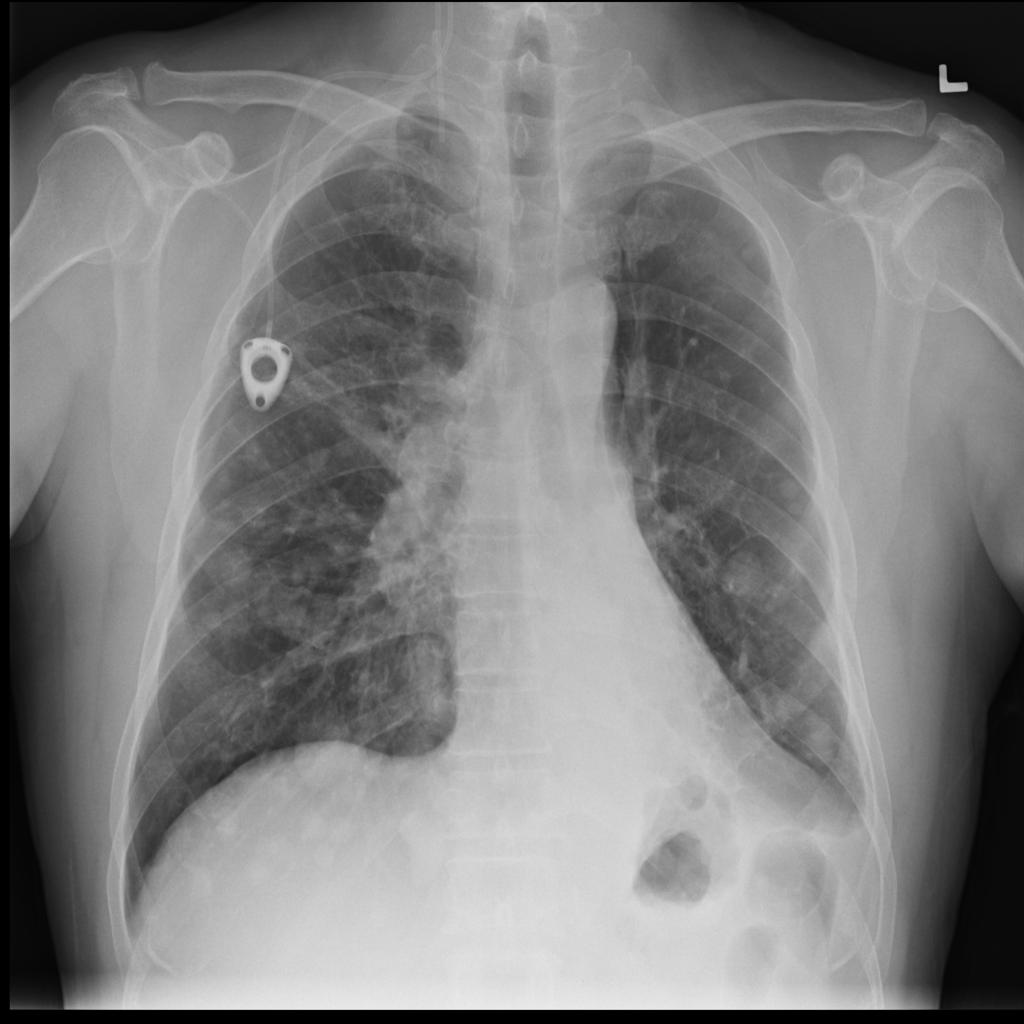nodule: (274, 687, 376, 815), (717, 538, 785, 618), (783, 703, 851, 779), (187, 589, 262, 656), (195, 527, 266, 597), (228, 490, 277, 541), (768, 459, 813, 513), (734, 233, 768, 273)
